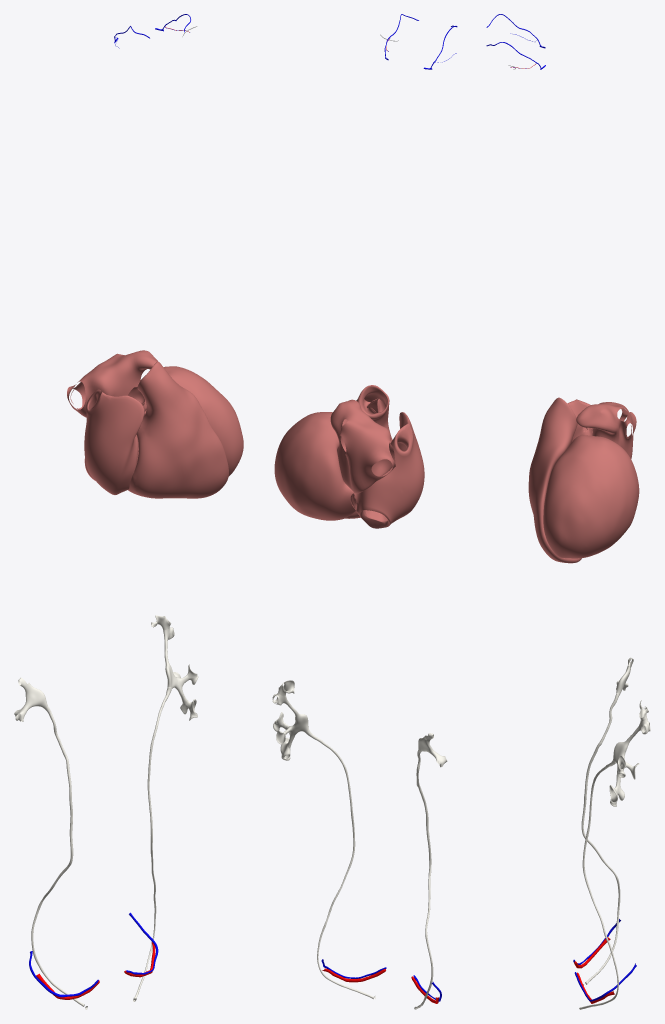
The model's file is female-a-organ-10.glb.
3 renders of one model, left to right at view 1: azimuth 30°, elevation 25°; view 2: azimuth 150°, elevation 25°; view 3: azimuth 270°, elevation 25°, orthographic. The views are drawn at different scales.
Visible parts, largest first — view 1: VH_F_right_ventricle, VH_F_right_cardiac_atrium, VH_F_left_ventricle, VH_F_left_cardiac_atrium, VH_F_right_ureter, VH_F_left_ureter; view 2: VH_F_left_ventricle, VH_F_right_cardiac_atrium, VH_F_left_cardiac_atrium, VH_F_right_ventricle, VH_F_left_ureter, VH_F_right_ureter; view 3: VH_F_left_ventricle, VH_F_right_ventricle, VH_F_left_cardiac_atrium, VH_F_right_ureter, VH_F_left_ureter.
Part boxes in pixels (x1=…): VH_F_right_ventricle: x1=128, y1=361, x2=228, y2=498; VH_F_right_cardiac_atrium: x1=84, y1=389, x2=144, y2=494; VH_F_left_ventricle: x1=140, y1=366, x2=243, y2=476; VH_F_left_cardiac_atrium: x1=67, y1=350, x2=157, y2=417; VH_F_right_ureter: x1=31, y1=706, x2=84, y2=1006; VH_F_left_ureter: x1=133, y1=687, x2=171, y2=999; VH_F_left_ventricle: x1=274, y1=412, x2=355, y2=520; VH_F_right_cardiac_atrium: x1=350, y1=412, x2=424, y2=528; VH_F_left_cardiac_atrium: x1=330, y1=399, x2=395, y2=493; VH_F_right_ventricle: x1=345, y1=385, x2=392, y2=518; VH_F_left_ureter: x1=306, y1=729, x2=374, y2=999; VH_F_right_ureter: x1=414, y1=750, x2=433, y2=1009; VH_F_left_ventricle: x1=543, y1=435, x2=639, y2=558; VH_F_right_ventricle: x1=528, y1=397, x2=581, y2=563; VH_F_left_cardiac_atrium: x1=576, y1=402, x2=636, y2=458; VH_F_right_ureter: x1=581, y1=693, x2=620, y2=984; VH_F_left_ureter: x1=579, y1=759, x2=618, y2=1009.
Bounding box in the file's own units: 0.1626 × 0.7897 × 0.1204.
